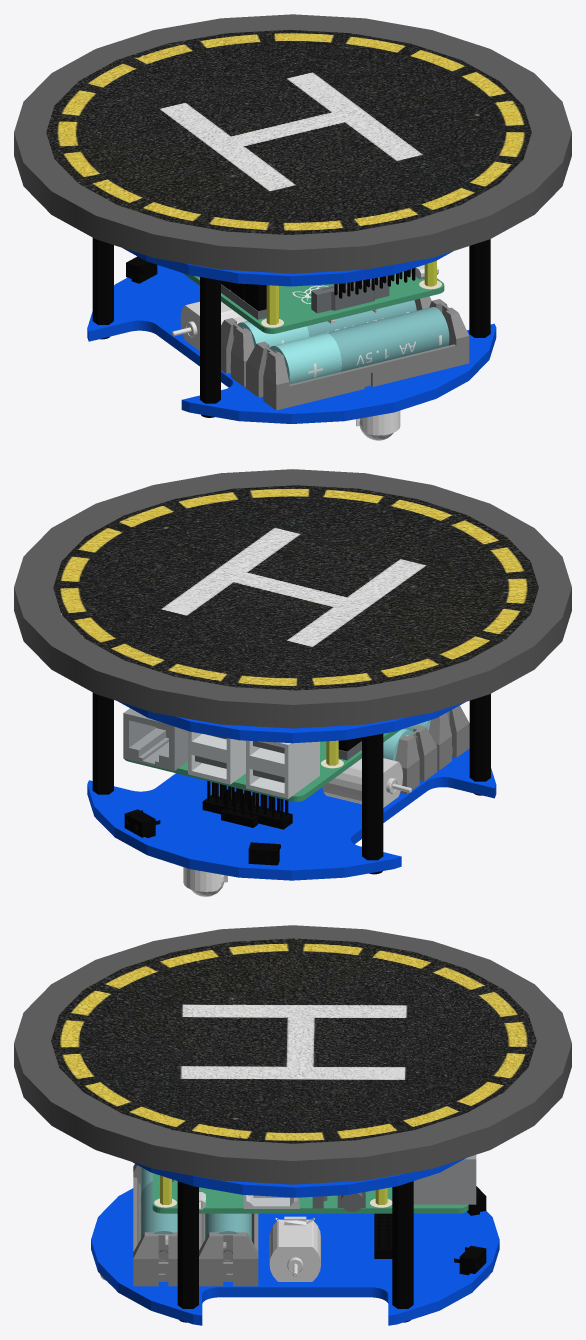
The model's file is body.glb.
The picture shows the model from 3 angles, top to bottom: view 1: azimuth 30°, elevation 25°; view 2: azimuth 150°, elevation 25°; view 3: azimuth 270°, elevation 25°; orthographic projection.
Parts seen in each view (by area): view 1: Geom3D, Geom3D.001, Mesh_Mesh_head_geo.001_lambert2SG.001, Mesh_Mesh_head_geo.001_lambert2SG.008, Mesh_Mesh_head_geo.001_lambert2SG.010, Mesh_Mesh_head_geo.001_lambert2SG.015, Mesh_Mesh_head_geo.001_lambert2SG.020, Mesh_Mesh_head_geo.001_lambert2SG.013, Mesh_Mesh_head_geo.001_lambert2SG.014, Mesh_Mesh_head_geo.001_lambert2SG.009, Mesh_Mesh_head_geo.001_lambert2SG.012, Mesh_Mesh_head_geo.001_lambert2SG.003 (+4 smaller); view 2: Geom3D, Geom3D.001, Mesh_Mesh_head_geo.001_lambert2SG.001, Mesh_Mesh_head_geo.001_lambert2SG.015, Mesh_Mesh_head_geo.001_lambert2SG.020, Mesh_Mesh_head_geo.001_lambert2SG.008, Mesh_Mesh_head_geo.001_lambert2SG.012, Mesh_Mesh_head_geo.001_lambert2SG.011, Mesh_Mesh_head_geo.001_lambert2SG.004, Mesh_Mesh_head_geo.001_lambert2SG.003, Mesh_Mesh_head_geo.001_lambert2SG.013, caster_a (+3 smaller); view 3: Geom3D, Geom3D.001, Mesh_Mesh_head_geo.001_lambert2SG.001, Mesh_Mesh_head_geo.001_lambert2SG.015, Mesh_Mesh_head_geo.001_lambert2SG.008, Mesh_Mesh_head_geo.001_lambert2SG.020, Mesh_Mesh_head_geo.001_lambert2SG.002, Mesh_Mesh_head_geo.001_lambert2SG.014, Mesh_Mesh_head_geo.001_lambert2SG.011, Mesh_Mesh_head_geo.001_lambert2SG.010, Mesh_Mesh_head_geo.001_lambert2SG.009, Mesh_Mesh_head_geo.001_lambert2SG.004 (+1 smaller).
Part boxes in pixels (x1,y1,x2,y2): Geom3D: [46, 29, 531, 234]; Geom3D.001: [14, 14, 571, 273]; Mesh_Mesh_head_geo.001_lambert2SG.001: [87, 265, 496, 423]; Mesh_Mesh_head_geo.001_lambert2SG.008: [221, 296, 469, 410]; Mesh_Mesh_head_geo.001_lambert2SG.010: [269, 307, 449, 384]; Mesh_Mesh_head_geo.001_lambert2SG.015: [183, 265, 444, 333]; Mesh_Mesh_head_geo.001_lambert2SG.020: [123, 248, 452, 286]; Mesh_Mesh_head_geo.001_lambert2SG.013: [200, 277, 220, 403]; Mesh_Mesh_head_geo.001_lambert2SG.014: [469, 239, 490, 337]; Mesh_Mesh_head_geo.001_lambert2SG.009: [237, 300, 416, 347]; Mesh_Mesh_head_geo.001_lambert2SG.012: [92, 238, 113, 324]; Mesh_Mesh_head_geo.001_lambert2SG.003: [171, 301, 247, 350]; Geom3D: [53, 485, 538, 690]; Geom3D.001: [14, 469, 571, 728]; Mesh_Mesh_head_geo.001_lambert2SG.001: [87, 748, 496, 880]; Mesh_Mesh_head_geo.001_lambert2SG.015: [123, 708, 400, 801]; Mesh_Mesh_head_geo.001_lambert2SG.020: [118, 701, 465, 743]; Mesh_Mesh_head_geo.001_lambert2SG.008: [395, 705, 469, 794]; Mesh_Mesh_head_geo.001_lambert2SG.012: [362, 733, 383, 860]; Mesh_Mesh_head_geo.001_lambert2SG.011: [92, 692, 113, 794]; Mesh_Mesh_head_geo.001_lambert2SG.004: [202, 781, 292, 829]; Mesh_Mesh_head_geo.001_lambert2SG.003: [322, 758, 411, 807]; Mesh_Mesh_head_geo.001_lambert2SG.013: [469, 694, 490, 781]; caster_a: [183, 867, 227, 891]; Geom3D: [51, 938, 536, 1143]; Geom3D.001: [14, 925, 571, 1184]; Mesh_Mesh_head_geo.001_lambert2SG.001: [91, 1188, 499, 1325]; Mesh_Mesh_head_geo.001_lambert2SG.015: [152, 1155, 476, 1213]; Mesh_Mesh_head_geo.001_lambert2SG.008: [133, 1164, 258, 1286]; Mesh_Mesh_head_geo.001_lambert2SG.020: [132, 1157, 466, 1197]; Mesh_Mesh_head_geo.001_lambert2SG.002: [269, 1216, 320, 1281]; Mesh_Mesh_head_geo.001_lambert2SG.014: [177, 1181, 198, 1308]; Mesh_Mesh_head_geo.001_lambert2SG.011: [392, 1181, 413, 1308]; Mesh_Mesh_head_geo.001_lambert2SG.010: [140, 1167, 177, 1262]; Mesh_Mesh_head_geo.001_lambert2SG.009: [205, 1213, 251, 1262]; Mesh_Mesh_head_geo.001_lambert2SG.004: [374, 1213, 392, 1258].
Size of the model in its own units: 0.15 by 0.0725 by 0.15.
59 materials, 1 textured.
